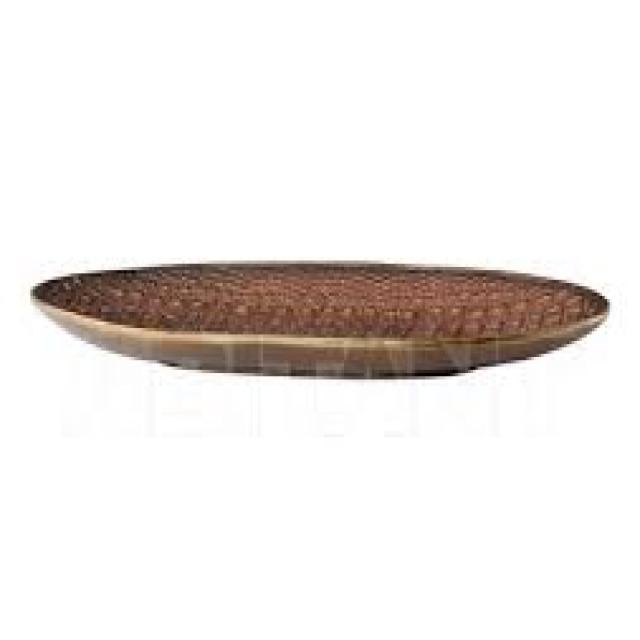glass: (28, 257, 607, 373)
